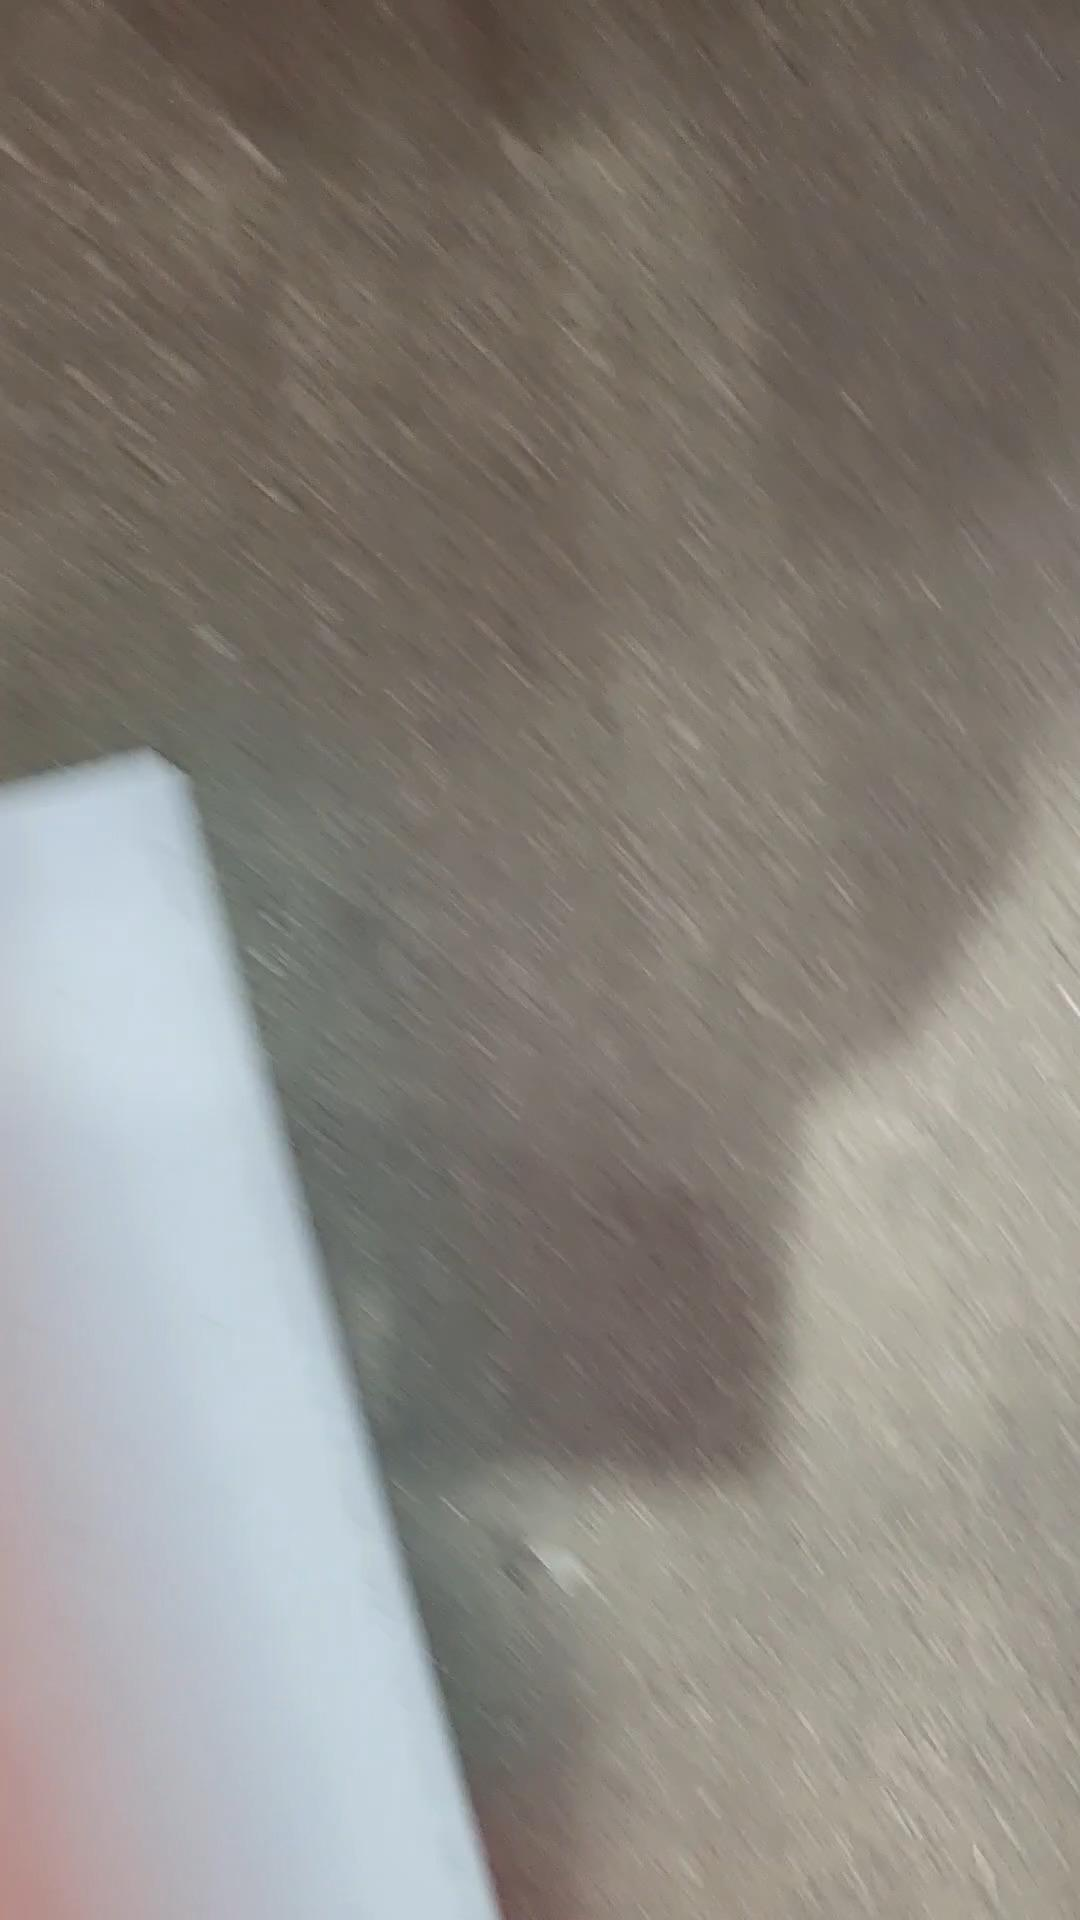coral: (0, 740, 508, 1920)
